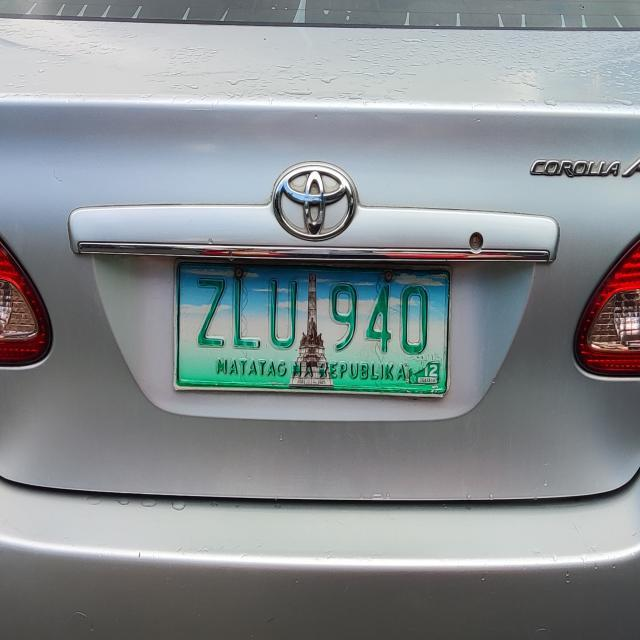LicensePlate: (169, 255, 450, 403)
